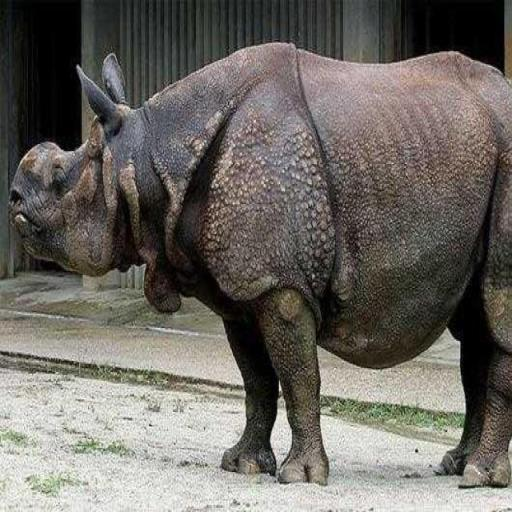Rhino: (8, 38, 510, 488)
